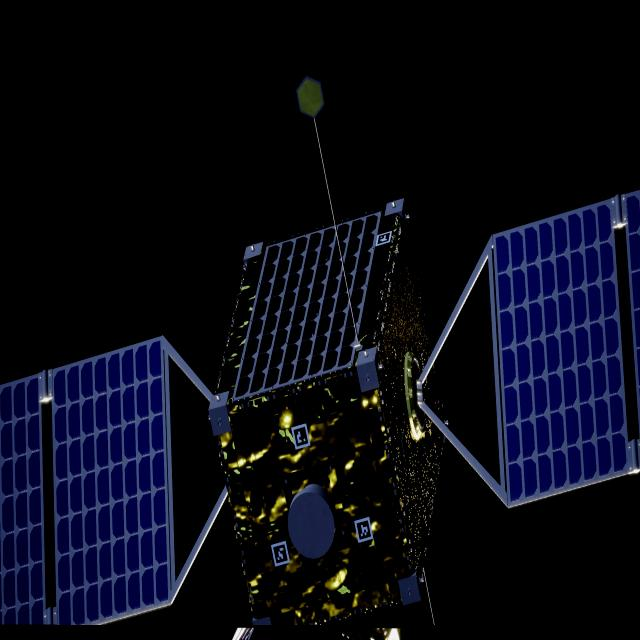satellite: (0, 191, 640, 629)
